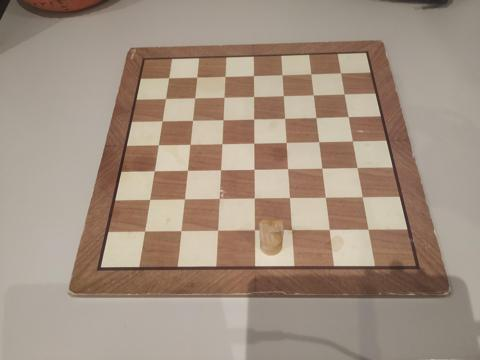xcorner: (291, 225, 301, 235), (365, 224, 375, 234), (182, 194, 192, 204), (253, 193, 263, 203), (359, 192, 369, 202), (151, 165, 161, 175), (185, 165, 195, 175), (286, 164, 296, 174), (320, 163, 330, 173), (354, 163, 364, 173), (187, 138, 197, 148), (252, 137, 262, 147), (349, 136, 359, 146), (158, 114, 168, 124), (283, 112, 293, 122), (314, 112, 324, 122), (191, 91, 201, 101), (251, 90, 261, 100), (281, 90, 291, 100), (311, 89, 321, 99), (341, 89, 351, 99), (193, 70, 203, 80), (251, 69, 261, 79), (308, 68, 318, 78), (337, 68, 347, 78), (142, 227, 152, 236), (180, 226, 189, 236), (217, 226, 226, 236), (254, 225, 263, 235), (328, 225, 338, 234), (147, 195, 157, 204), (218, 194, 227, 204), (289, 193, 298, 203), (324, 193, 334, 202), (219, 165, 229, 174), (253, 164, 262, 174), (155, 139, 165, 148), (220, 138, 229, 148), (285, 137, 294, 147), (317, 137, 327, 146), (189, 114, 199, 123), (221, 113, 230, 123), (252, 113, 261, 123), (345, 112, 355, 121), (162, 91, 171, 101), (221, 91, 231, 100), (165, 70, 174, 80), (222, 70, 232, 79), (280, 69, 289, 79)
